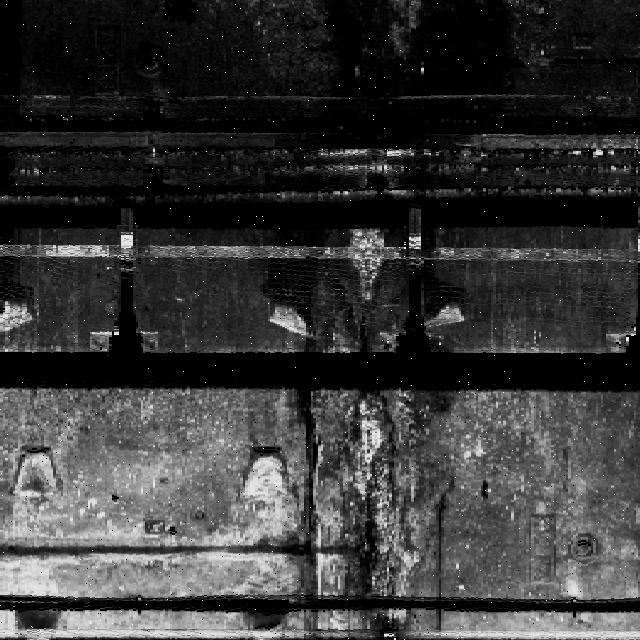leakage: (275, 390, 449, 637), (325, 1, 525, 188), (259, 223, 448, 359), (1, 1, 24, 314)
